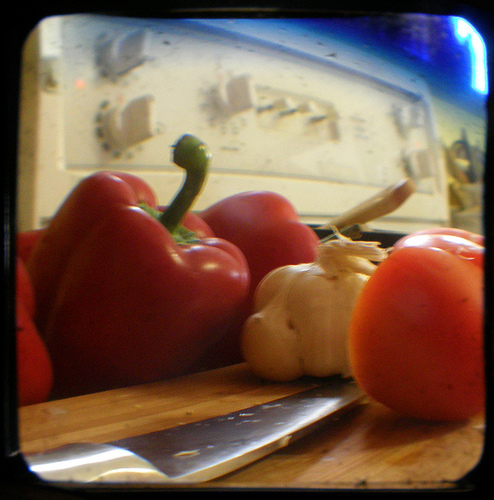capsicum: (28, 133, 248, 397), (200, 191, 363, 305)
